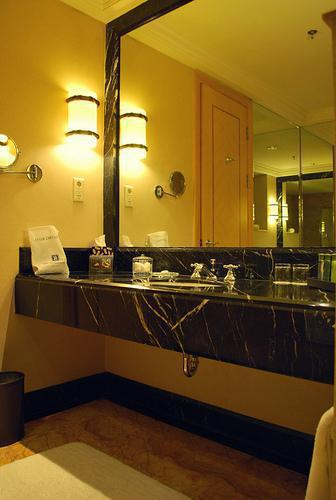Bote de Basura: (0, 370, 24, 446)
Lavamanos: (140, 258, 236, 292)
